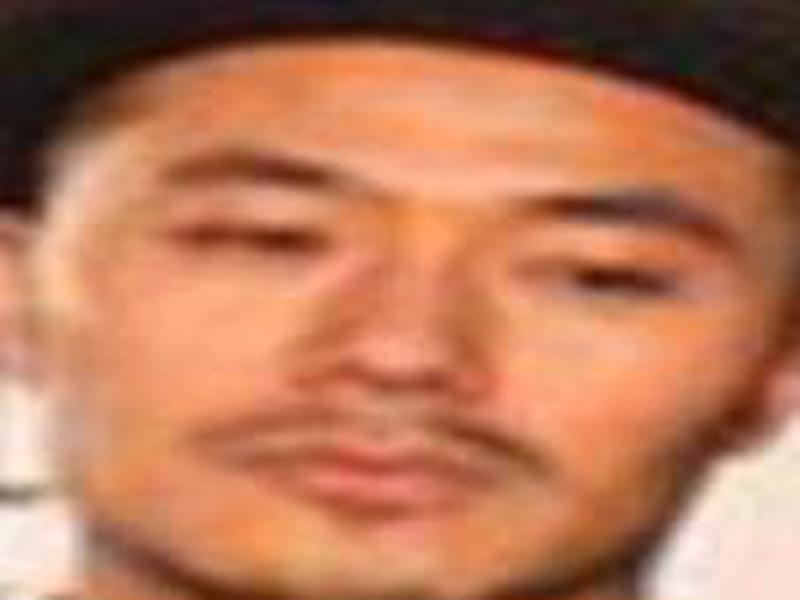without_mask: (30, 116, 791, 600)
